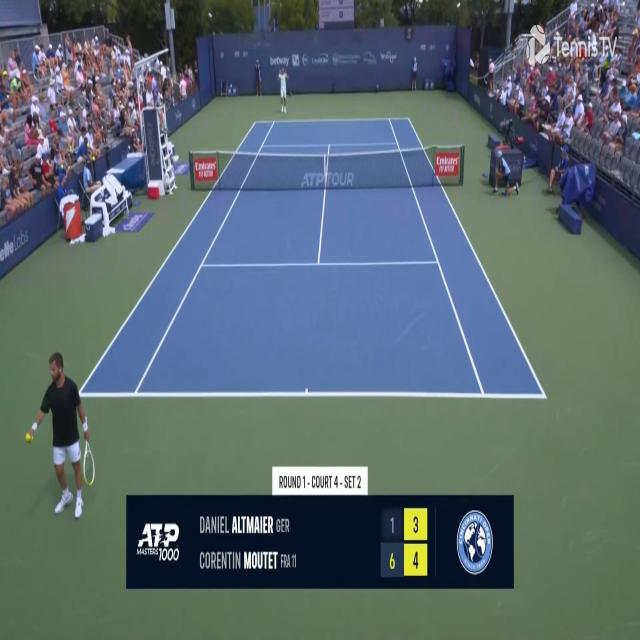tennis-player: (24, 347, 101, 524), (277, 66, 291, 114)
